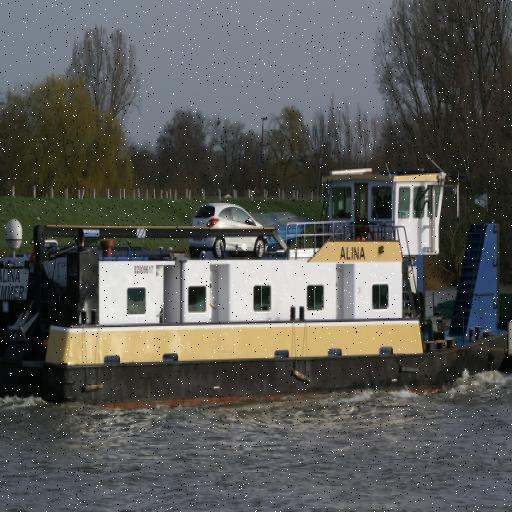tugboat: (1, 161, 511, 427)
